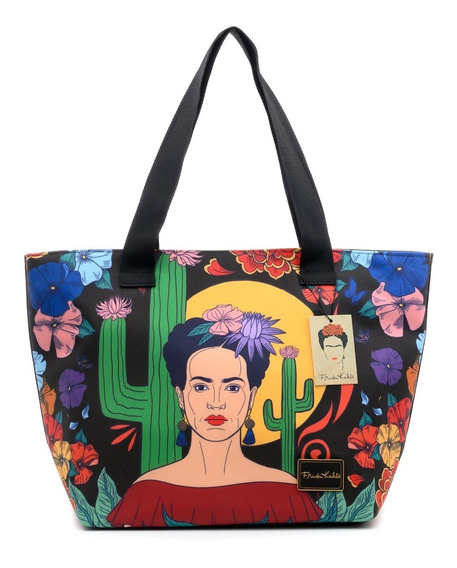cartera: (23, 26, 433, 531)
